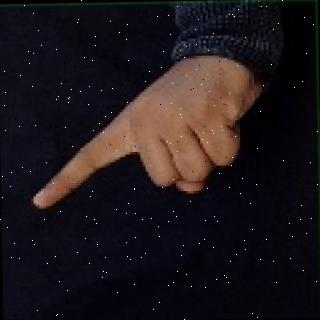I: (29, 56, 274, 208)
